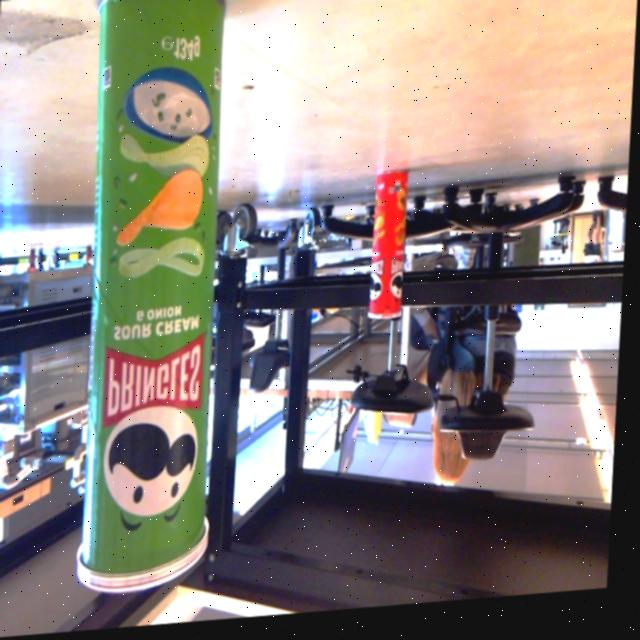greenpringles: (62, 0, 262, 604)
redpringles: (364, 164, 423, 336)
